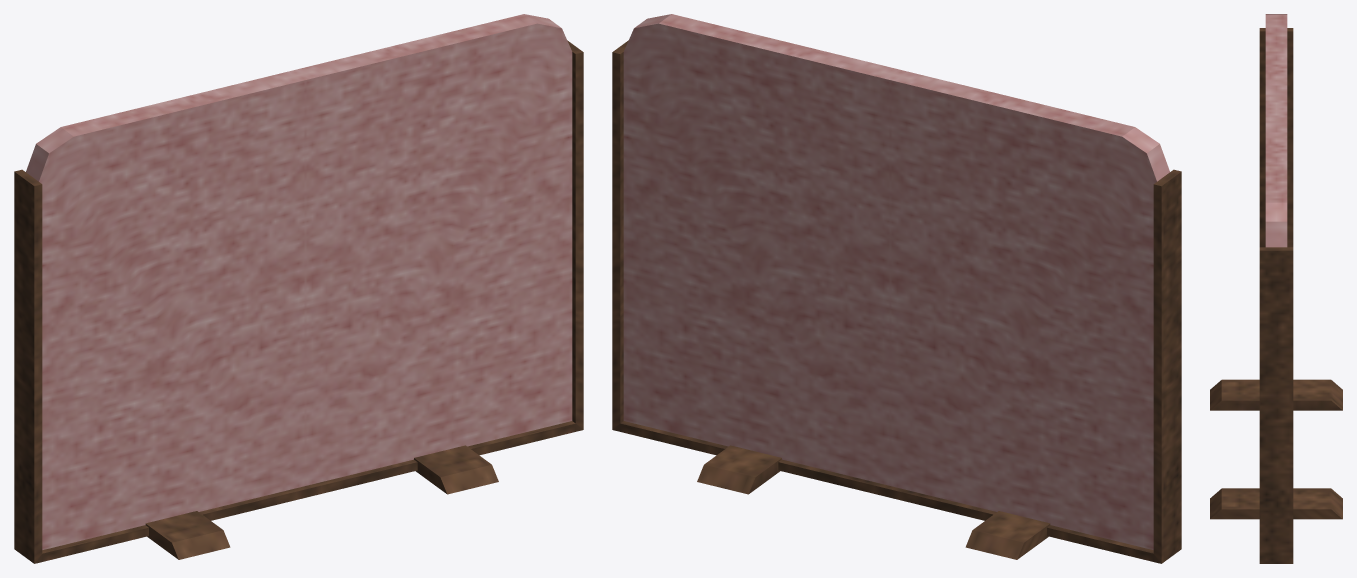
The model's file is divider_wood_red_low_half.obj.
3 views of the same model, side by side, from view 1: azimuth 30°, elevation 25°; view 2: azimuth 150°, elevation 25°; view 3: azimuth 270°, elevation 25° (orthographic). The views are drawn at different scales.
Visible parts, largest first — view 1: divider_wood_red_low_half; view 2: divider_wood_red_low_half; view 3: divider_wood_red_low_half.
Part boxes in pixels (left/top/right/bottom): divider_wood_red_low_half: left=14, top=14, right=583, bottom=563; divider_wood_red_low_half: left=612, top=14, right=1181, bottom=563; divider_wood_red_low_half: left=1210, top=14, right=1342, bottom=563.
Bounding box in the file's own units: 2.07 × 1.5 × 0.523.
